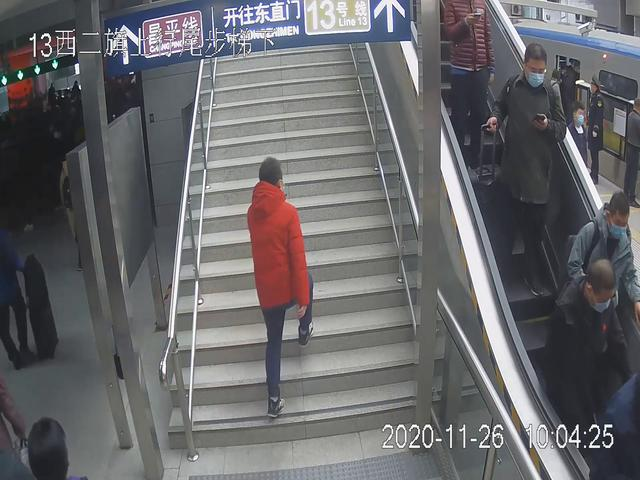person: (488, 42, 565, 303), (243, 155, 316, 421), (547, 258, 634, 451), (441, 1, 493, 191)
